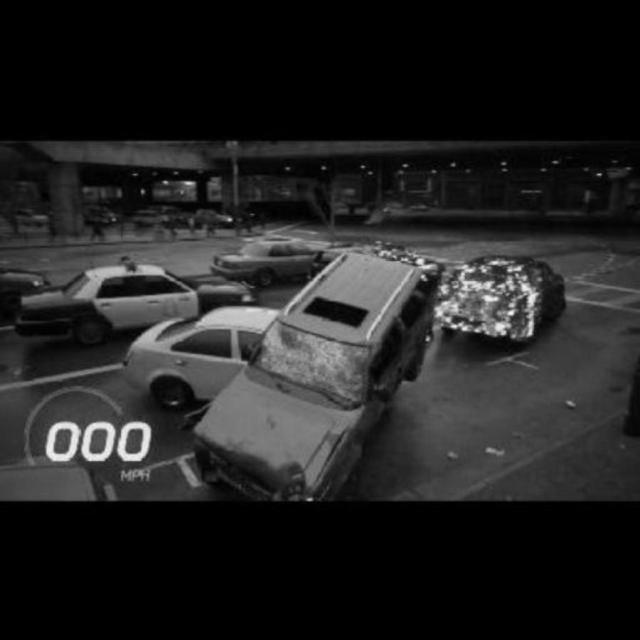accident: (132, 258, 436, 500)
vehicle: (10, 260, 222, 352), (439, 253, 571, 346), (207, 235, 323, 283)
